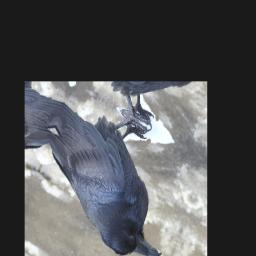Crow: (28, 82, 198, 256)
